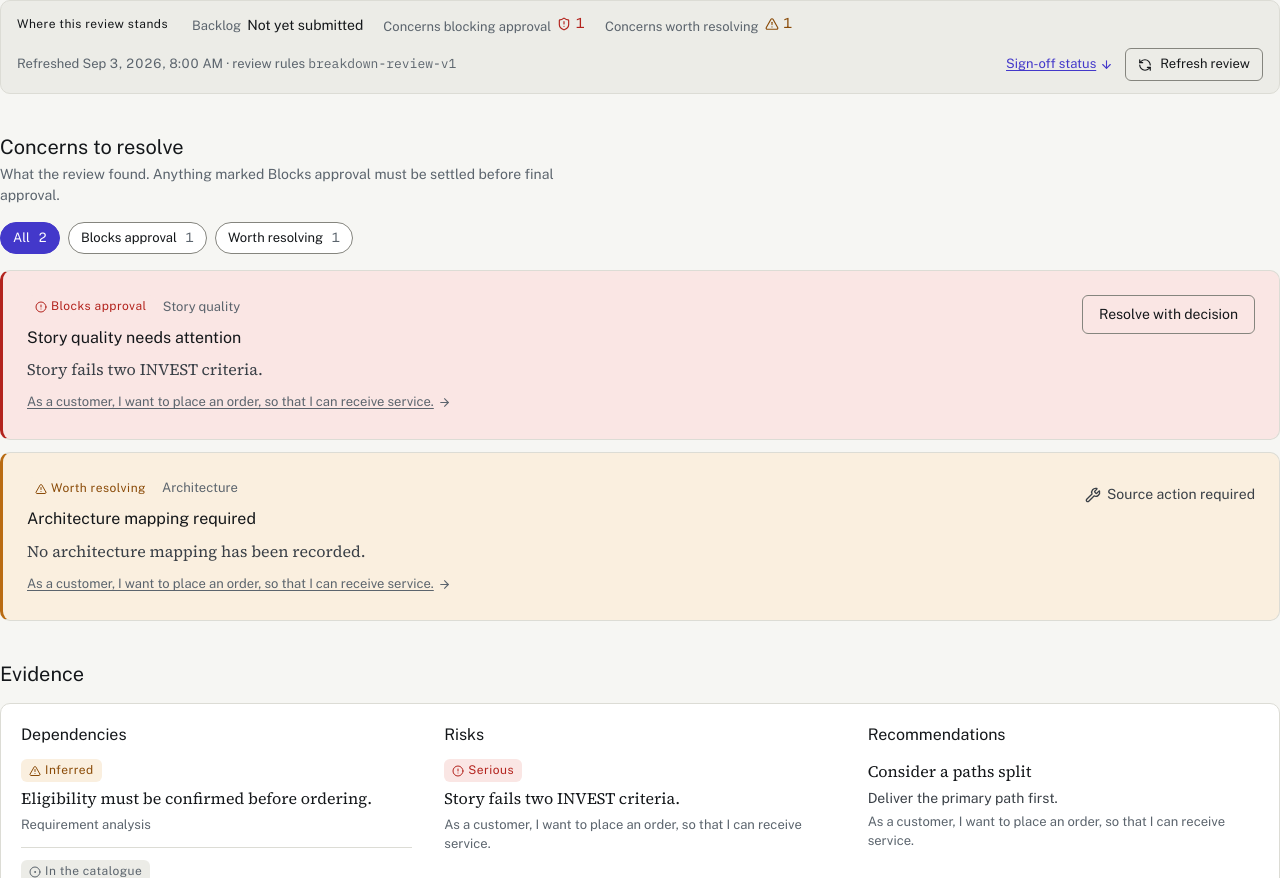
Scenario: BreakdownReviewPanel › shows a failed resolution inside the concern that caused it
Click the button "Resolve with decision".
click(1168, 315)  # box 1082,295 -> 1255,334
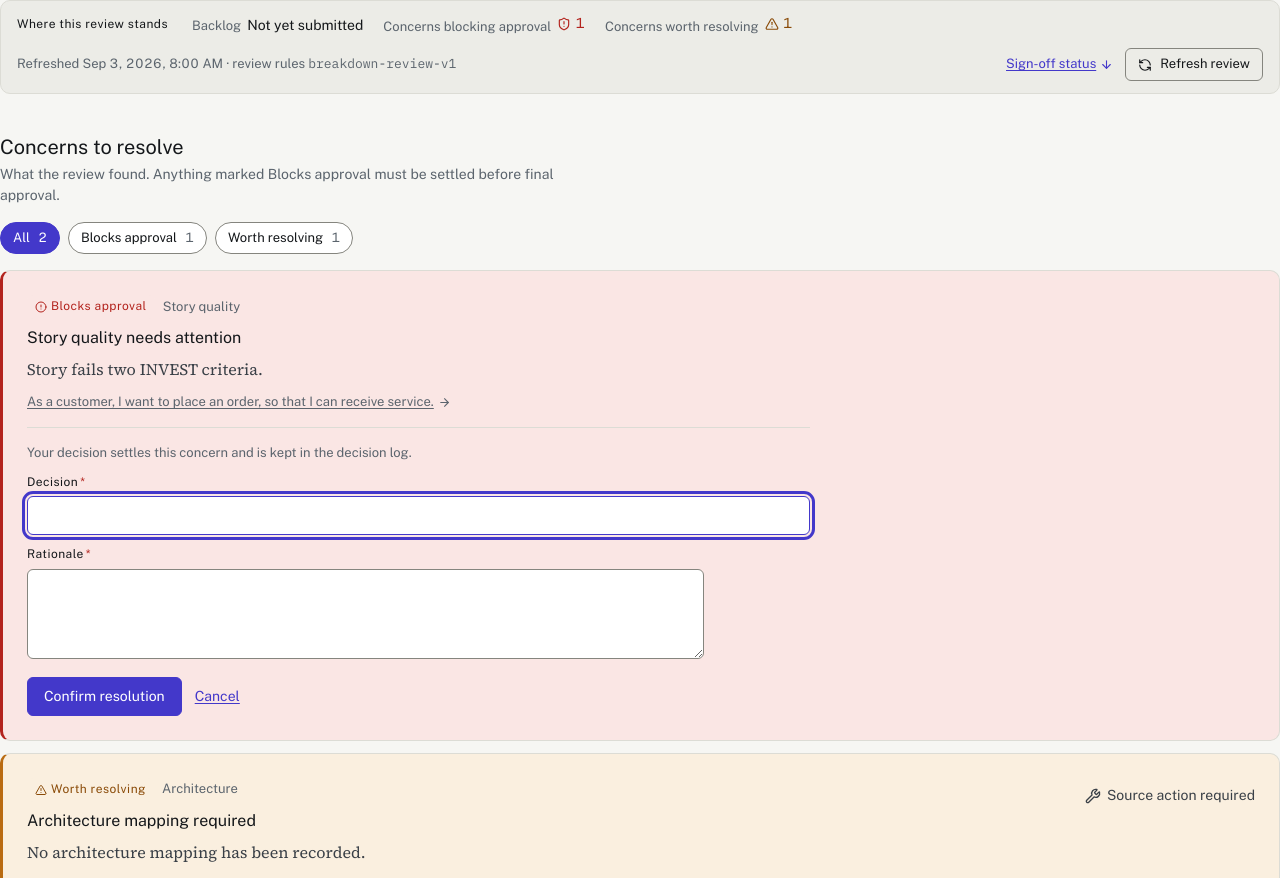
Type "Accept" into the field labelled "Decision*".
click(419, 516); type("Accept")  # box 27,496 -> 810,535
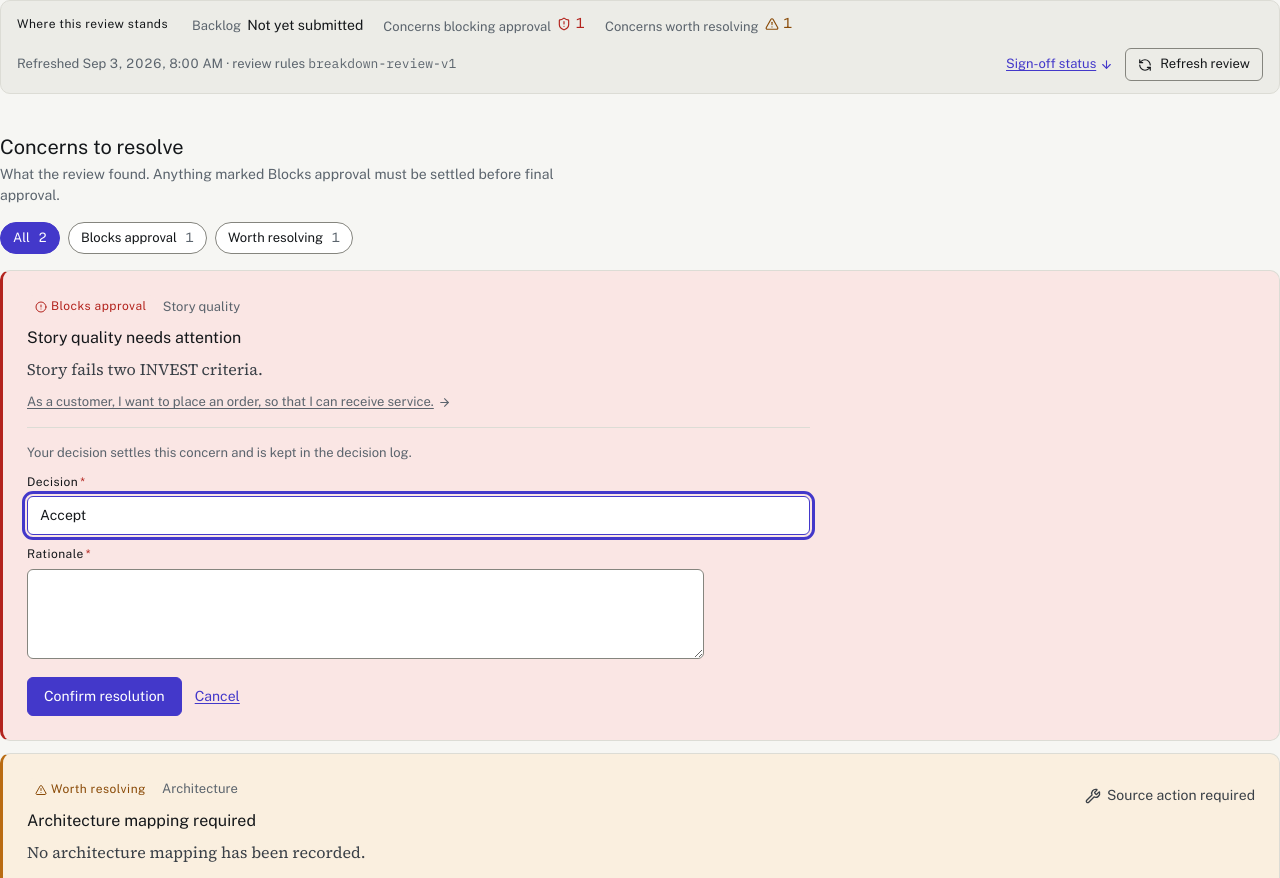
Type "Scheduled." into the text box labelled "Rationale*".
click(366, 614); type("Scheduled.")  # box 27,569 -> 704,659
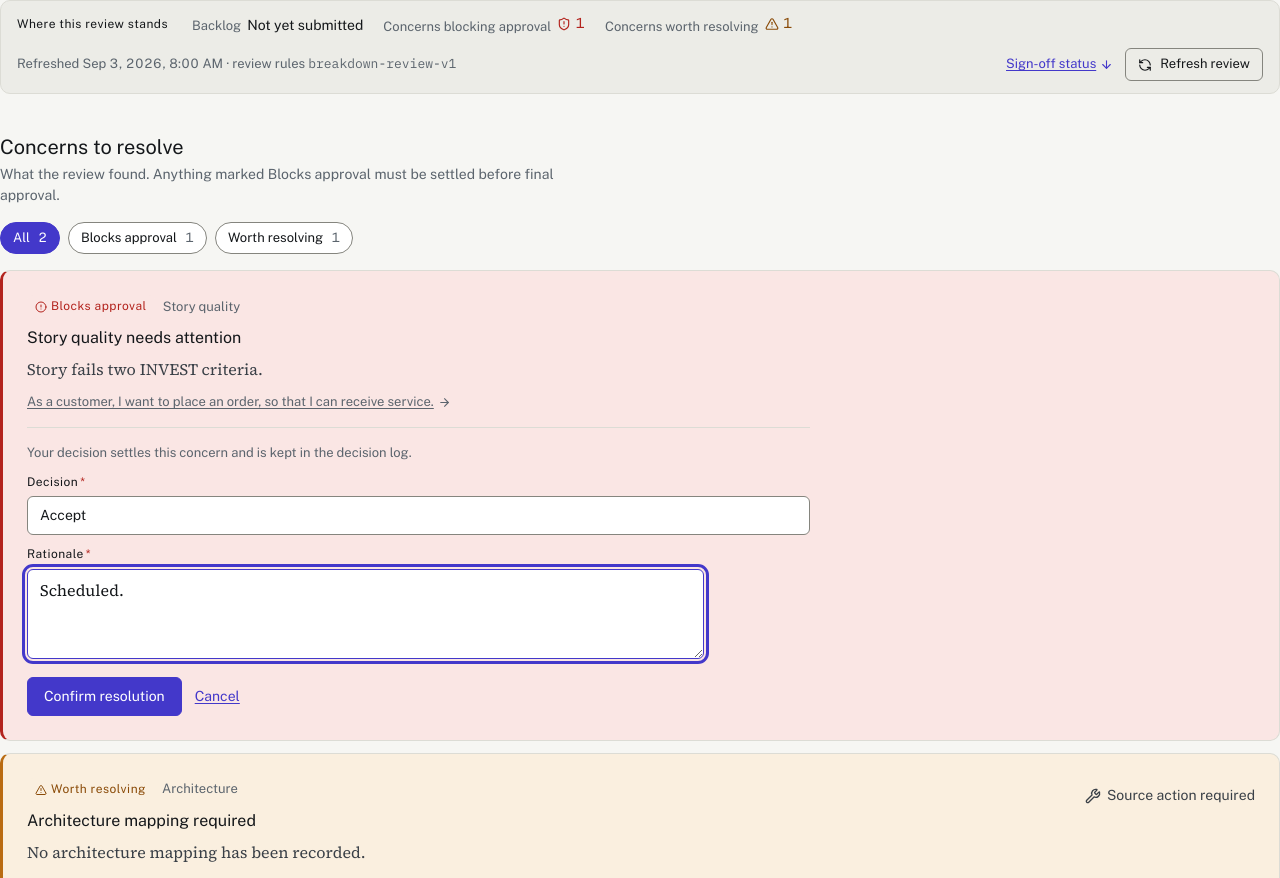
Click the button "Confirm resolution".
click(104, 696)  # box 27,677 -> 182,716
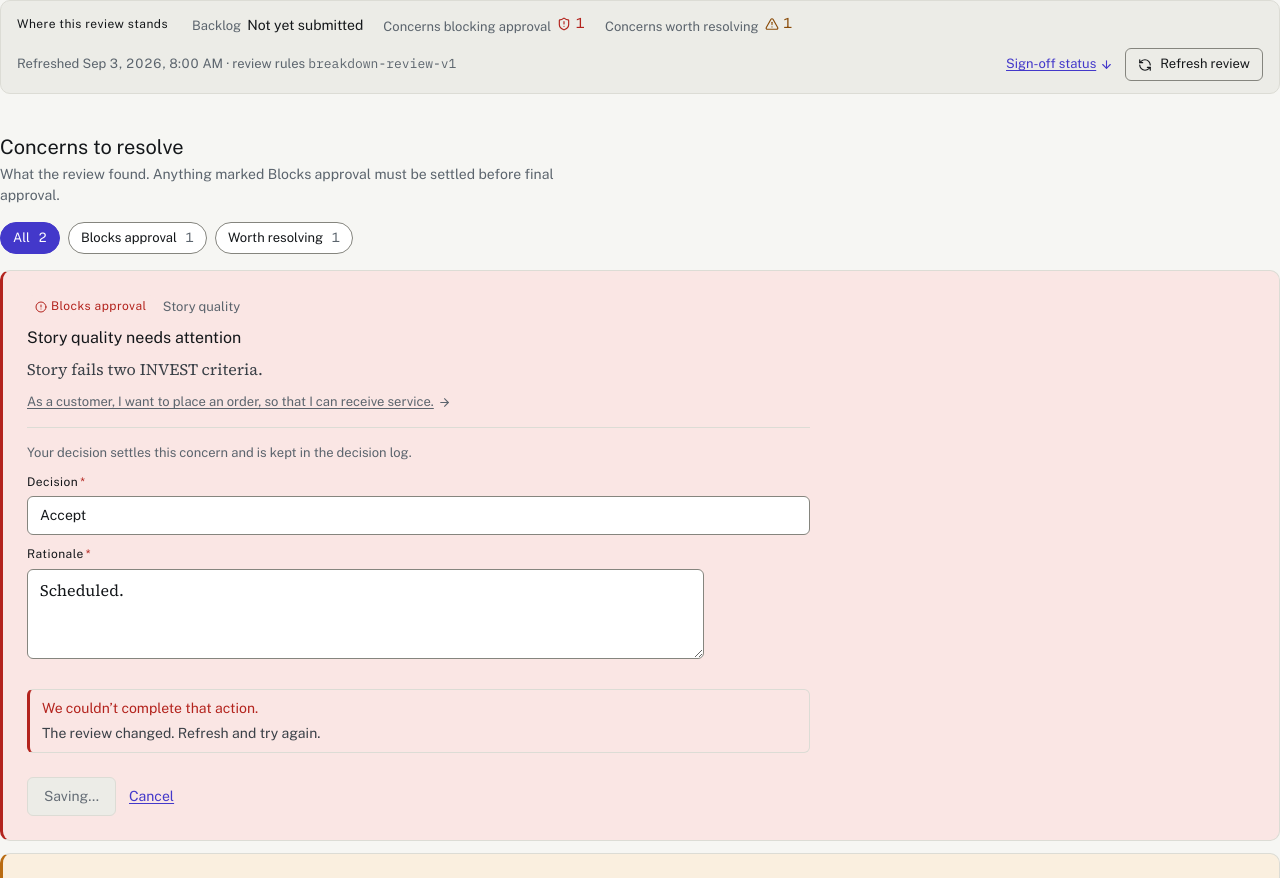
Result: the text "The review changed. Refresh and try again." is shown at 42,725 -> 320,741
